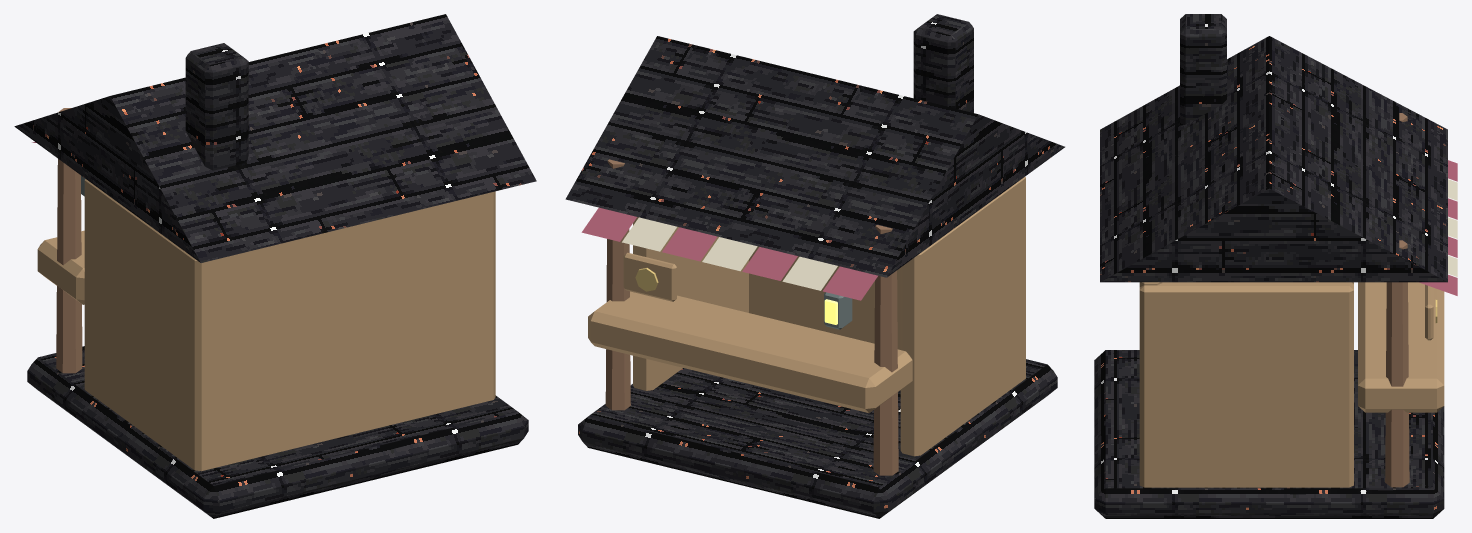
File: loja_mascate.fbx
The picture shows the model from 3 angles, left to right: view 1: azimuth 30°, elevation 25°; view 2: azimuth 150°, elevation 25°; view 3: azimuth 270°, elevation 25°; orthographic projection. The views are drawn at different scales.
Visible parts, largest first — view 1: vulcao_loja_mascate; view 2: vulcao_loja_mascate; view 3: vulcao_loja_mascate.
Part boxes in pixels (x1,y1,x2,y2): vulcao_loja_mascate: (14, 14, 536, 518); vulcao_loja_mascate: (565, 14, 1064, 518); vulcao_loja_mascate: (1094, 14, 1457, 518).
Bounding box in the file's own units: 192 × 226 × 193.
